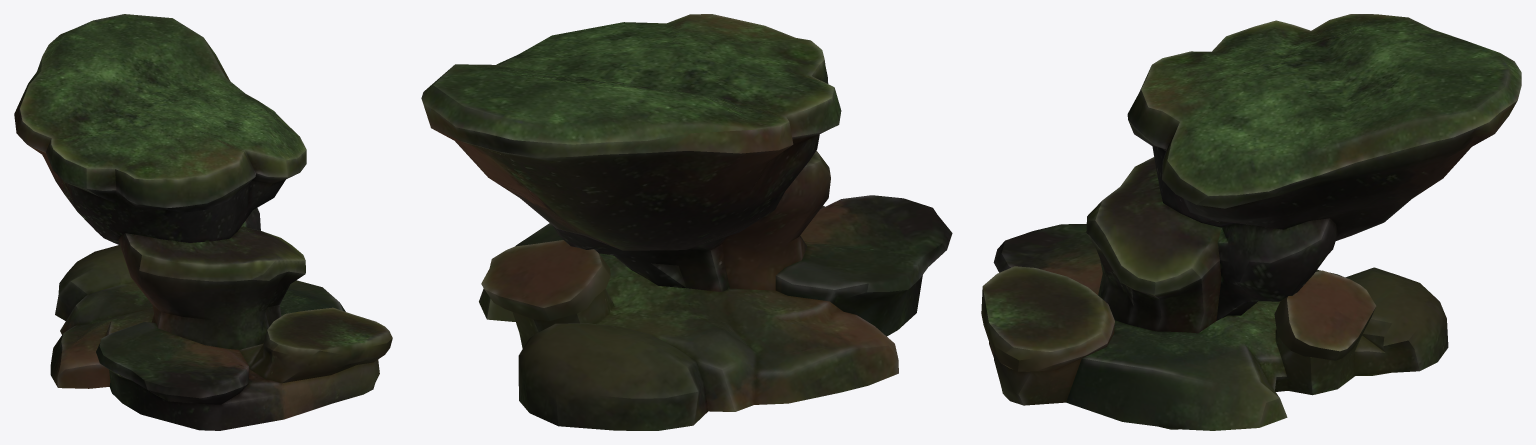
File: FlooorPlatform7.fbx
3 views of the same model, side by side, from view 1: azimuth 30°, elevation 25°; view 2: azimuth 150°, elevation 25°; view 3: azimuth 270°, elevation 25° (orthographic). The views are drawn at different scales.
Visible parts, largest first — view 1: FlooorPlatform.008; view 2: FlooorPlatform.008; view 3: FlooorPlatform.008.
Boxes of the visible parts, left/top/right/bottom form: FlooorPlatform.008: left=14, top=14, right=392, bottom=430; FlooorPlatform.008: left=421, top=14, right=952, bottom=430; FlooorPlatform.008: left=981, top=14, right=1521, bottom=430.
Size of the model in its own units: 22.27 by 17.68 by 30.06.
Materials: 1 (1 with a texture image).
